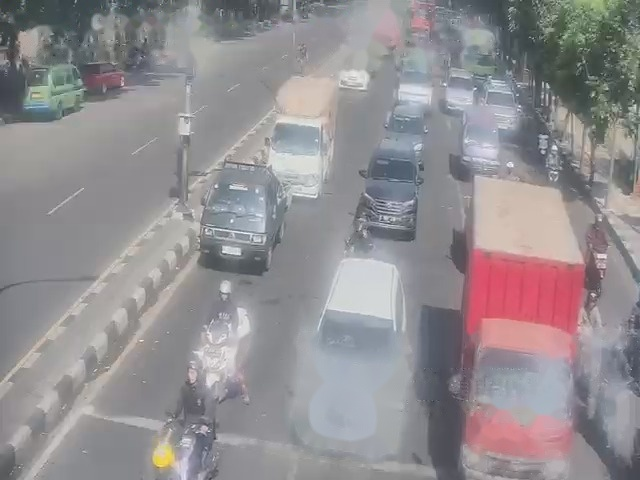Bis: (263, 79, 334, 200)
Mobil: (309, 261, 414, 426), (189, 159, 278, 269), (357, 132, 420, 228), (459, 107, 503, 176), (385, 104, 427, 168), (482, 84, 520, 133), (395, 71, 432, 111), (339, 49, 373, 90), (443, 68, 475, 111)
Motor: (152, 417, 218, 479), (194, 334, 235, 399), (585, 216, 608, 300), (538, 134, 561, 182)
Truk: (460, 180, 581, 479), (263, 79, 334, 200), (462, 20, 497, 85)
